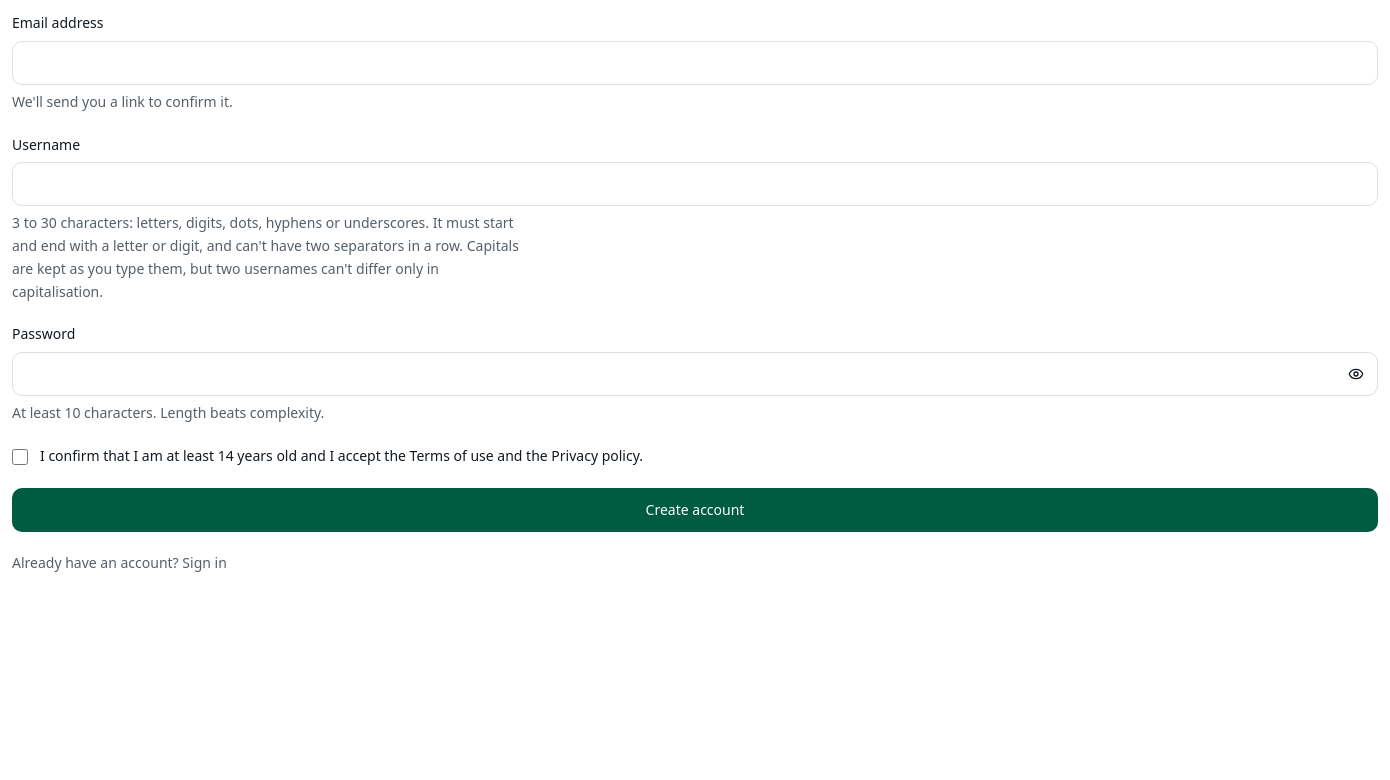
RegisterForm › registerForm_takenEmail_marksTheFieldAndOffersToSignIn
The width and height of the screenshot is (1390, 780).
Type "ruben@correo.es" into the field labelled "Email address". click: (695, 63)
box: [12,41,1378,85]
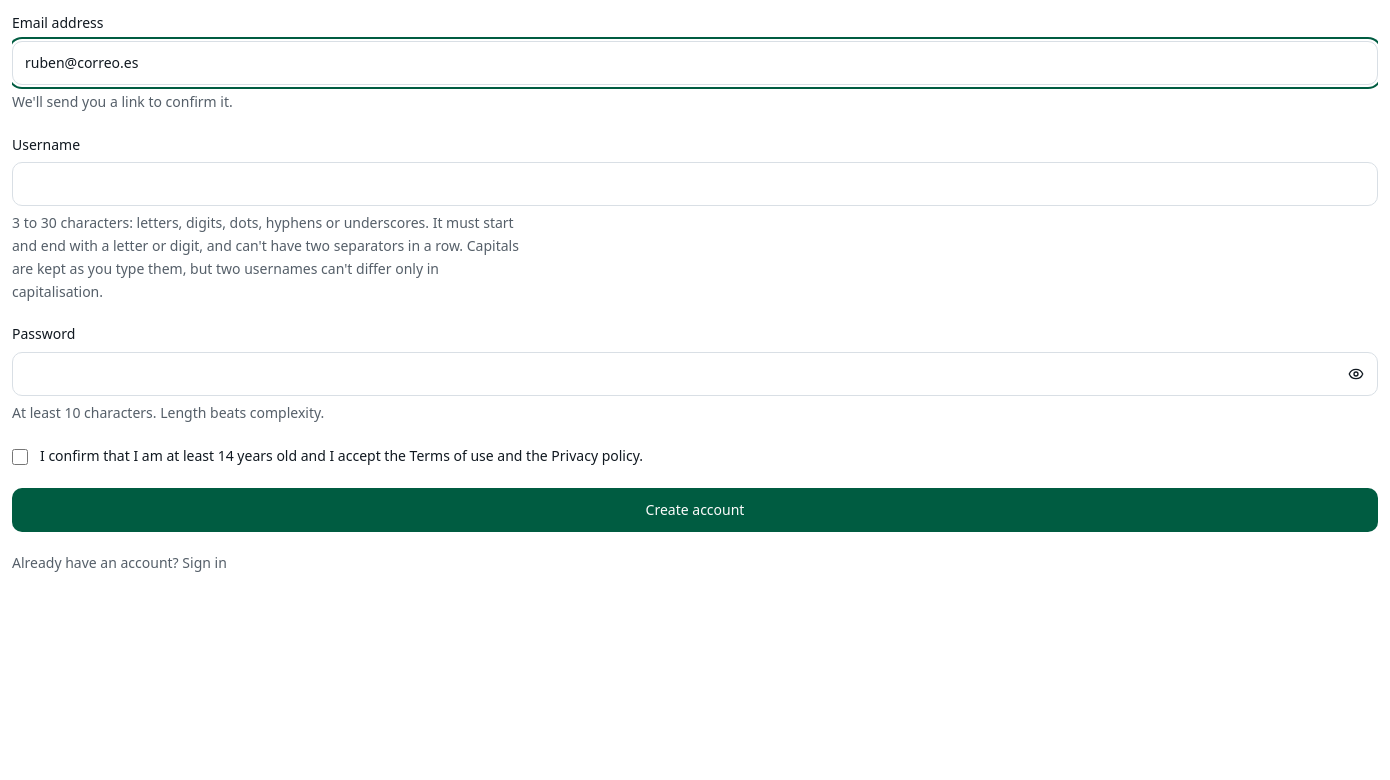
Type "ruben" into the field labelled "Username". click: (695, 184)
box: [12,162,1378,206]
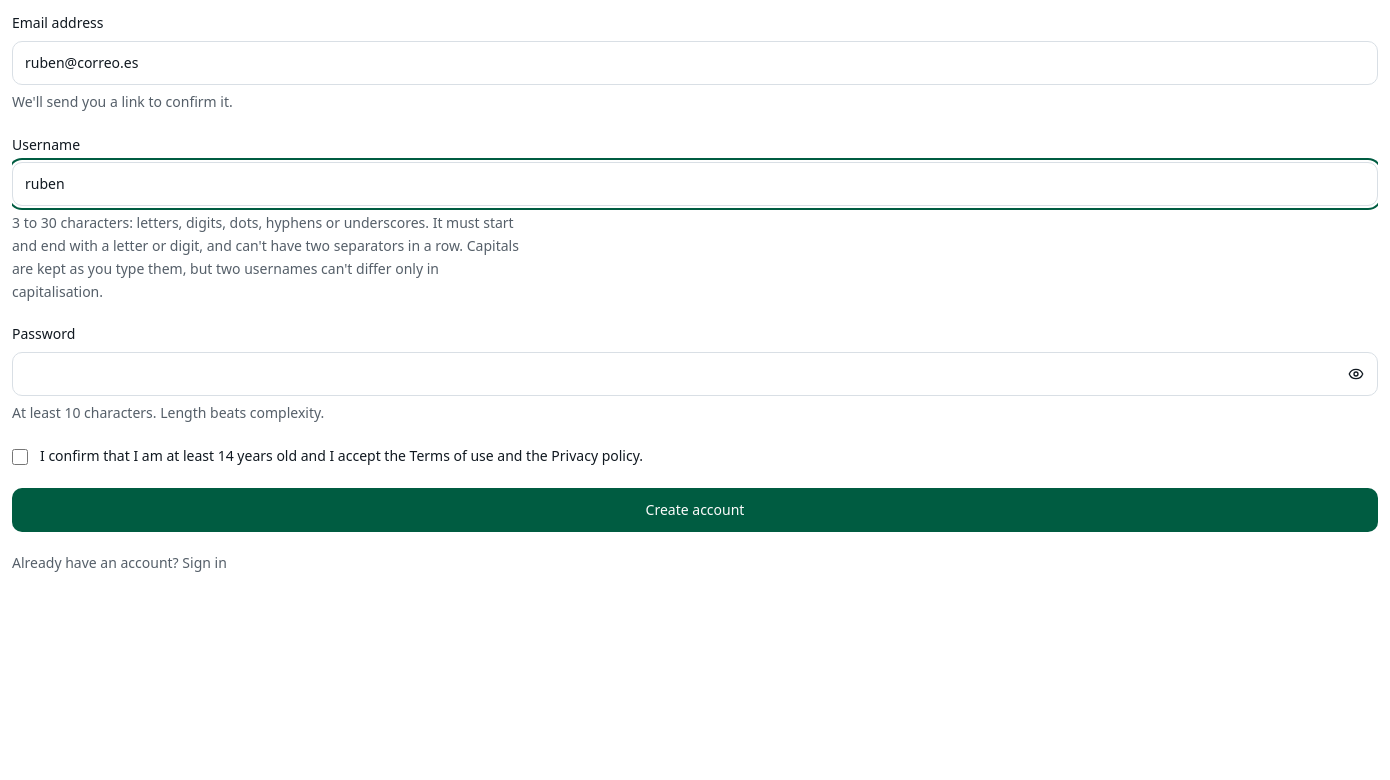
Type "montana2026segura" into the password field labelled "Password". click: (695, 374)
box: [12,352,1378,396]
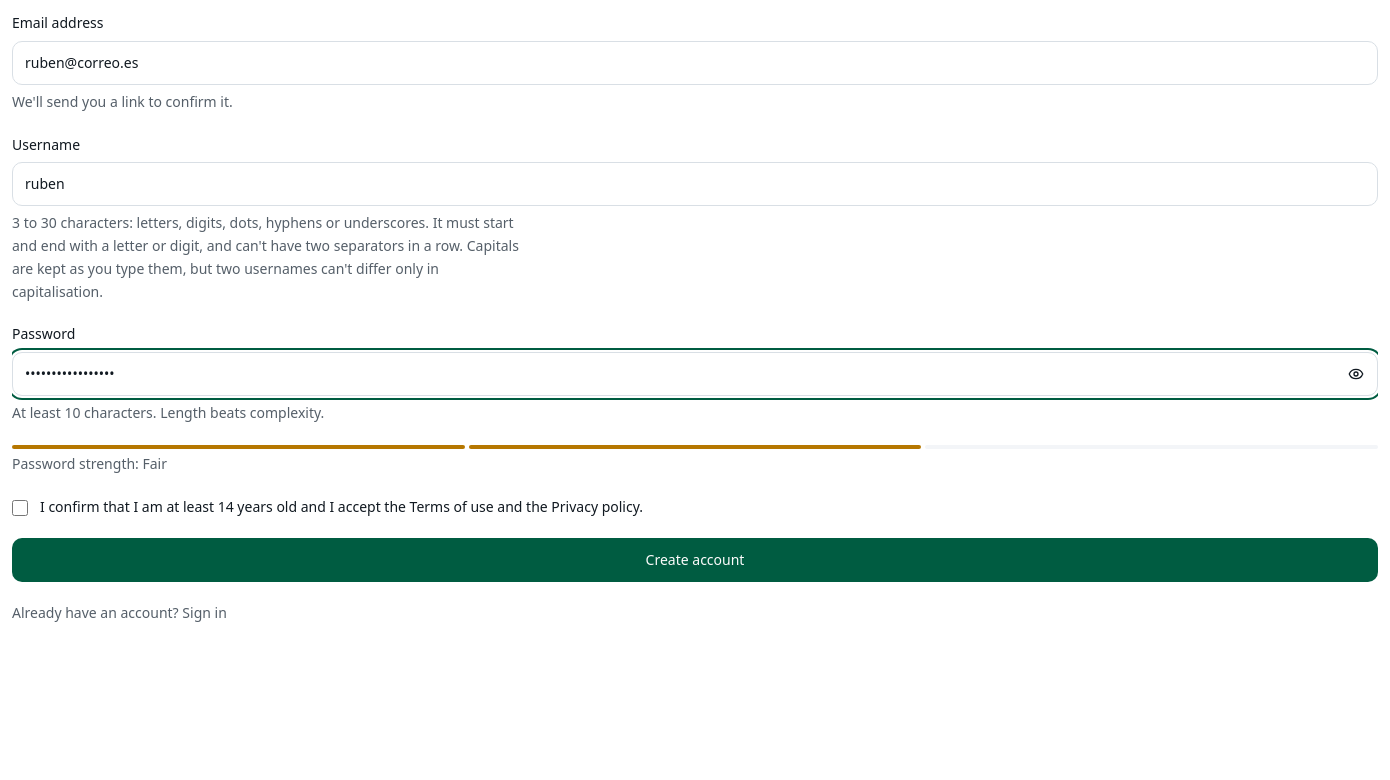
Click the checkbox. click: (20, 508)
box: [12,500,28,516]
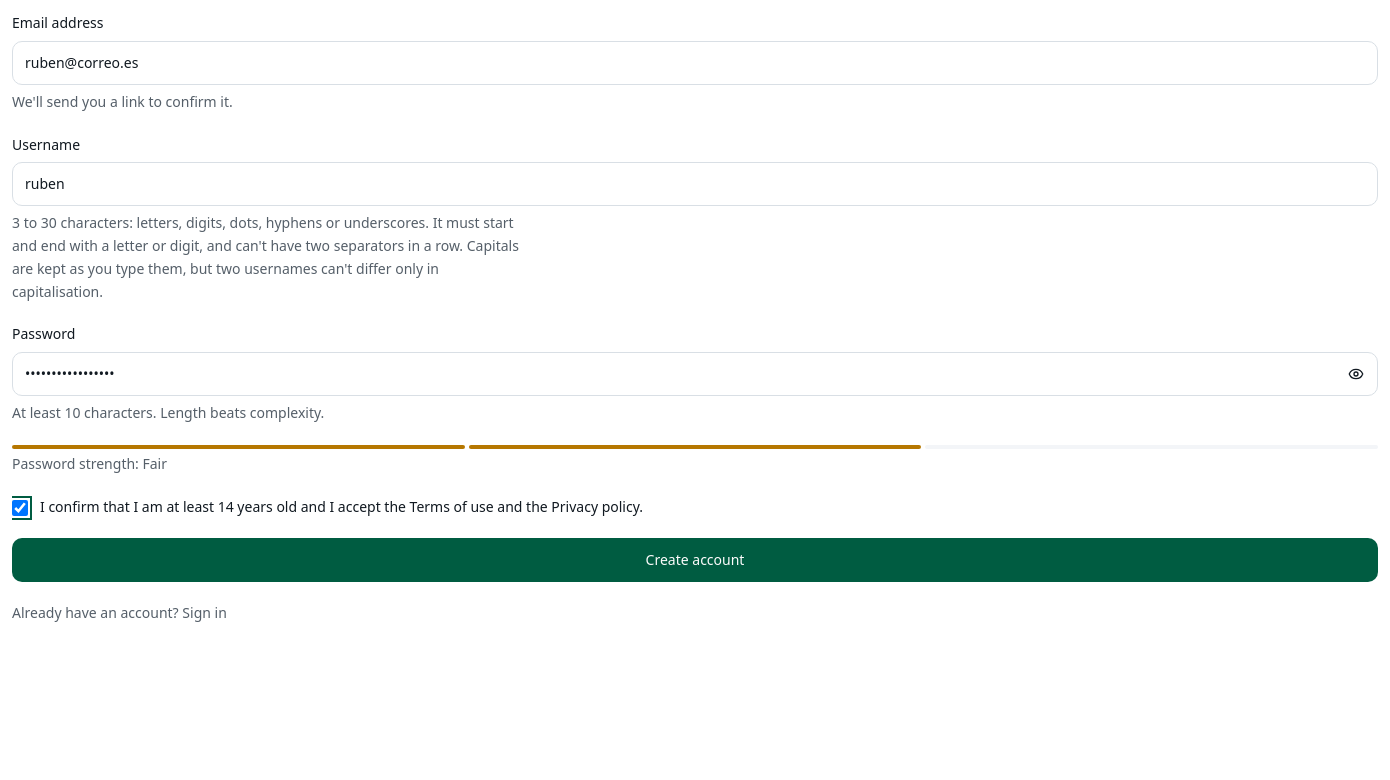
Click the button "Create account". click: (695, 560)
box: [12,538,1378,582]
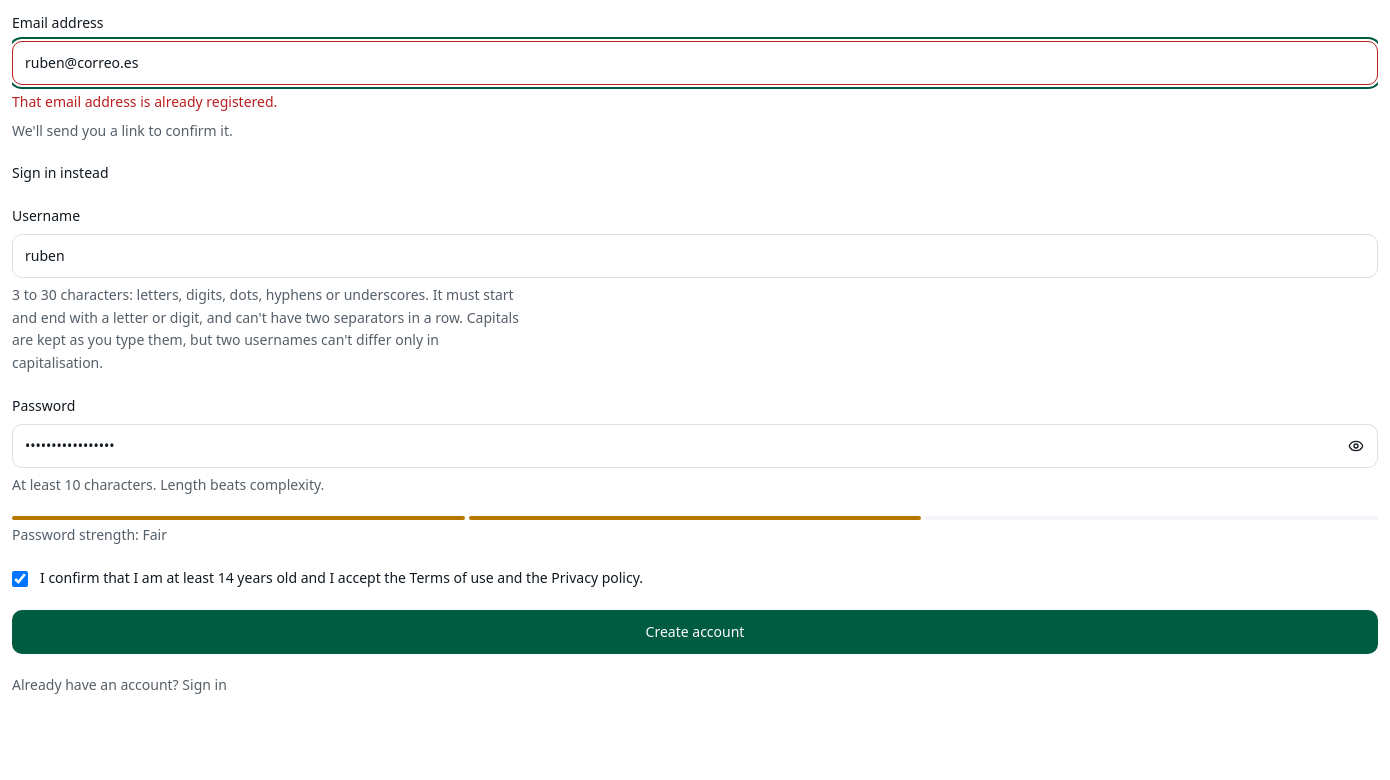
Expected: the link "Sign in instead" is shown, [12,163,108,182]
